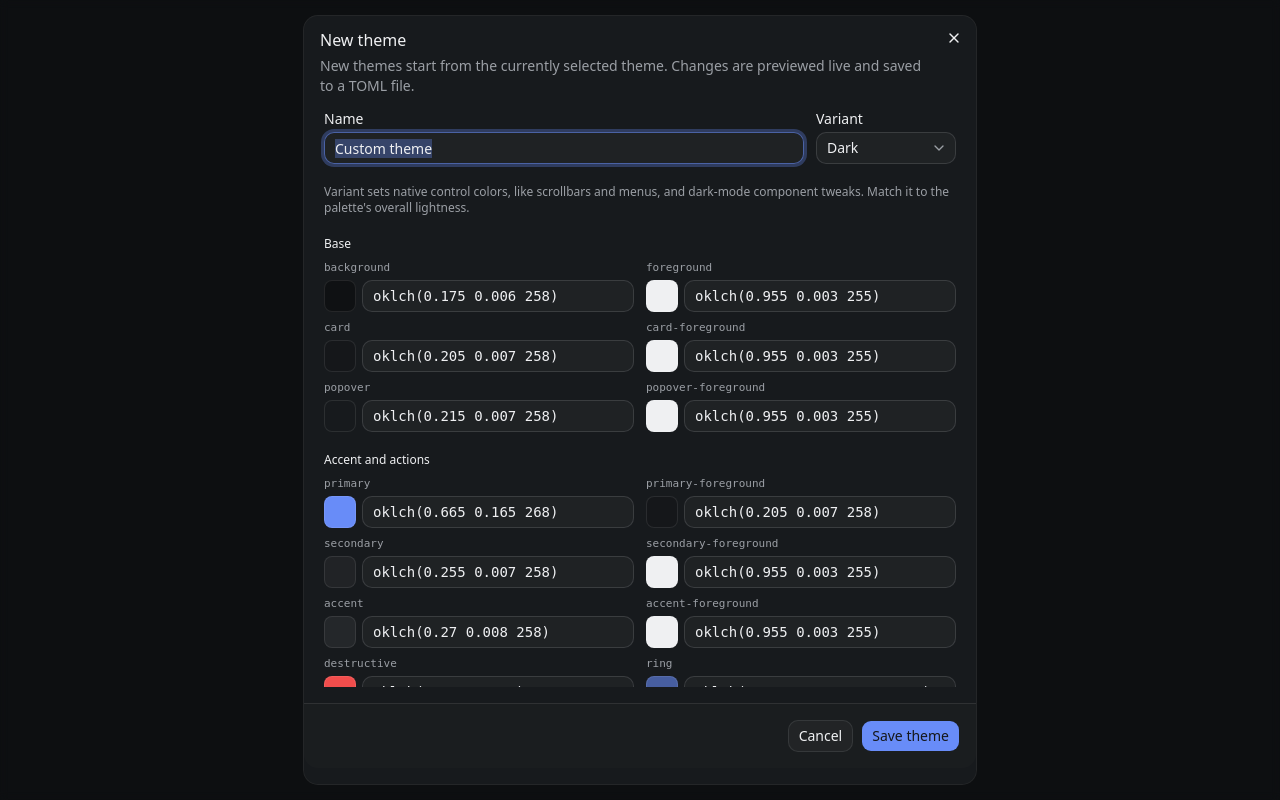
Test: ThemeEditorDialog › shows save errors outside the scroll area, next to the actions
Click the button "Save theme": (911,736) 861,720 -> 960,752
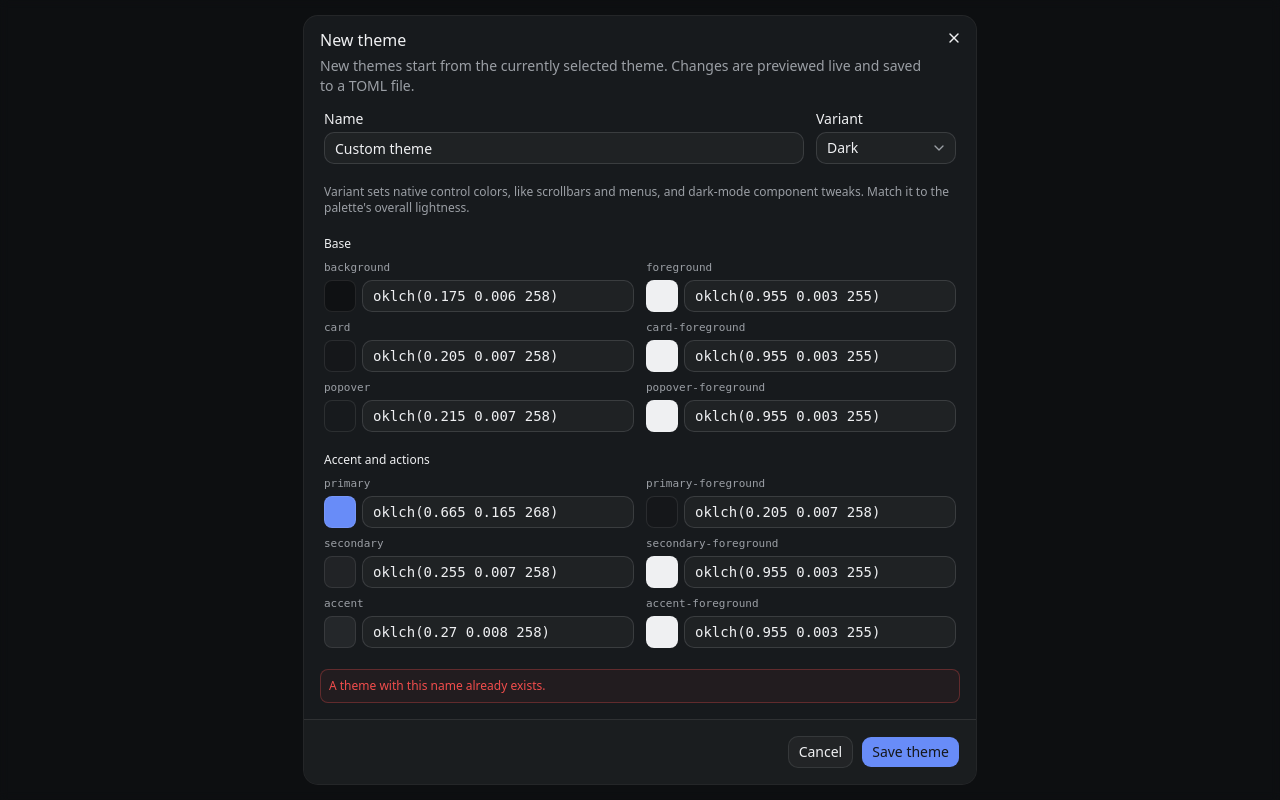
Check: the message reads "A theme with this name already exists.", box 329,677 -> 546,694
